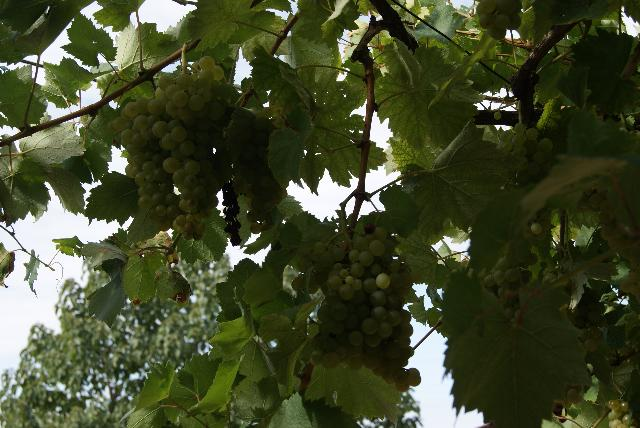grapes: (156, 56, 232, 240), (310, 242, 381, 370), (108, 98, 170, 230), (362, 241, 412, 389), (349, 240, 394, 348), (501, 122, 552, 188), (479, 252, 538, 302)
